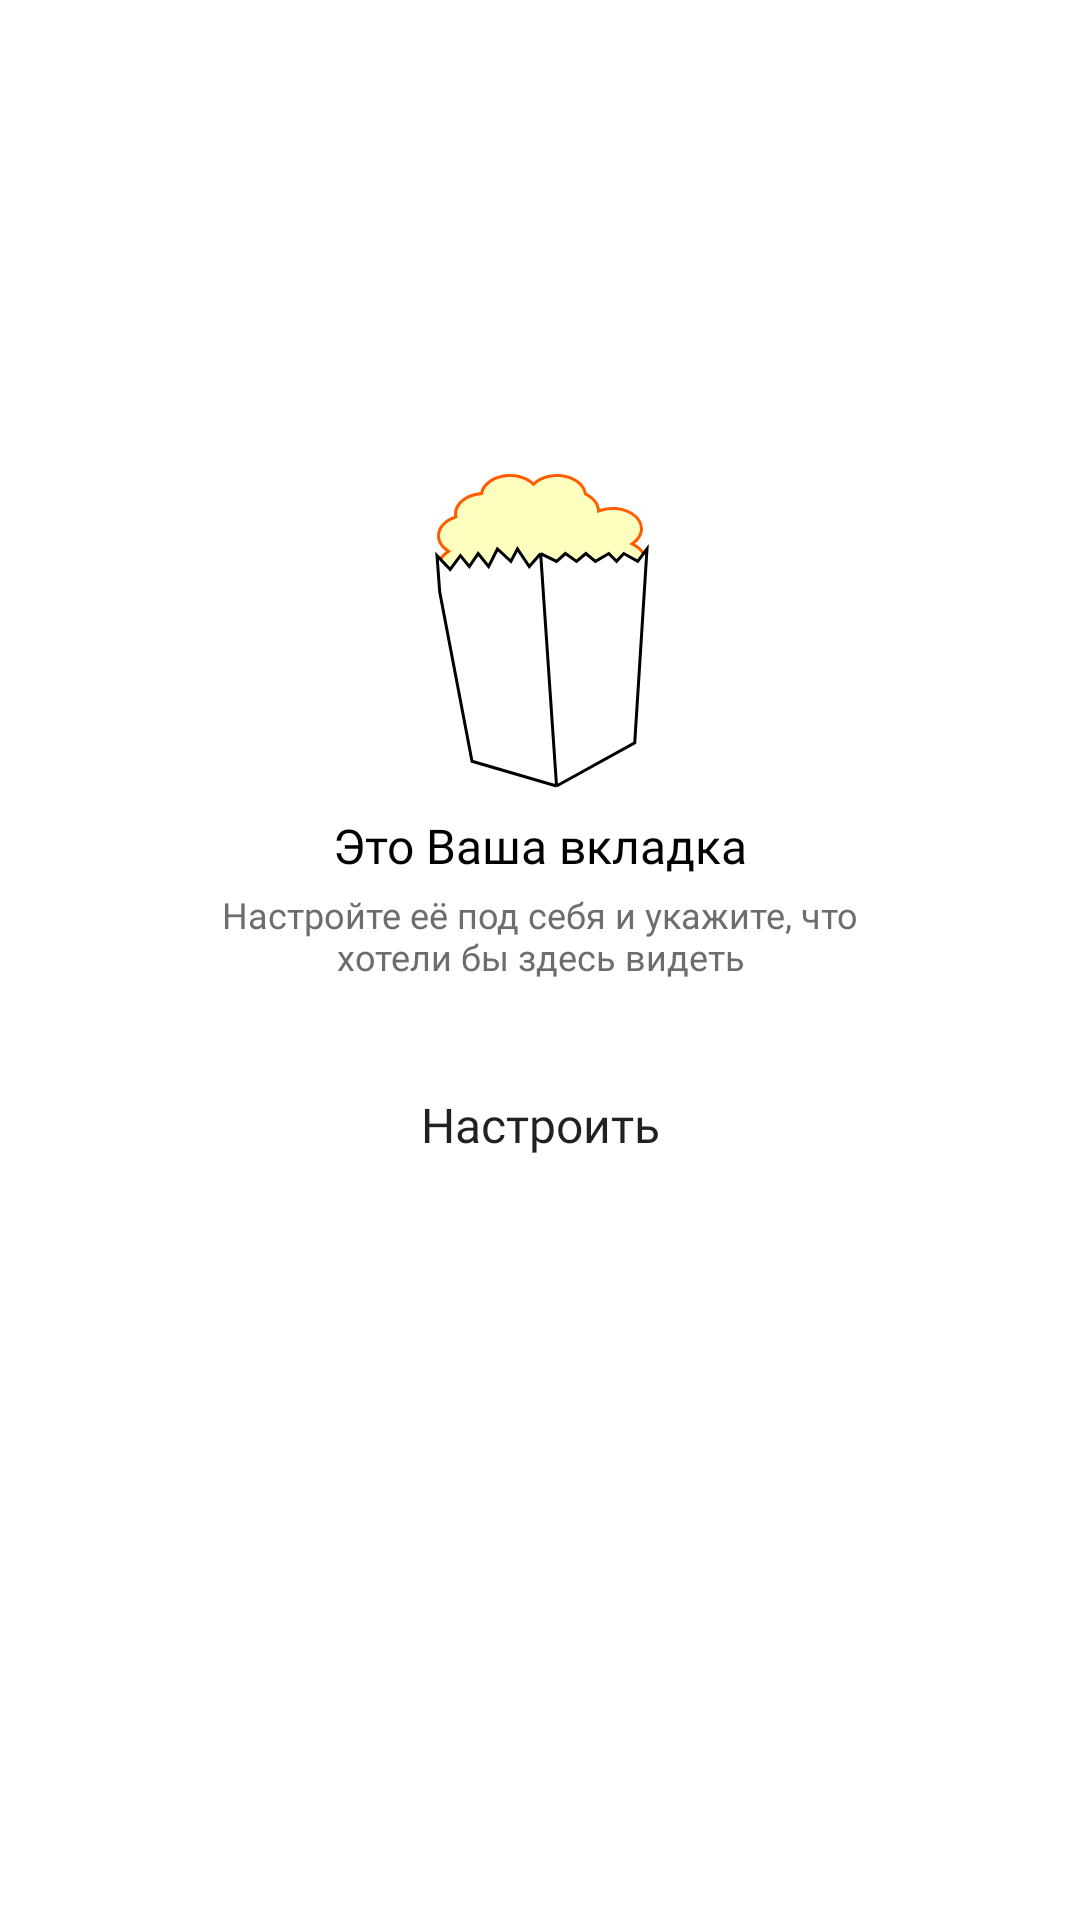

Locate icon controls on the screen. Image size 1080 x 1920, boxes as (x1, y1, x2, y2).
pop corn: (435, 474, 649, 788)
